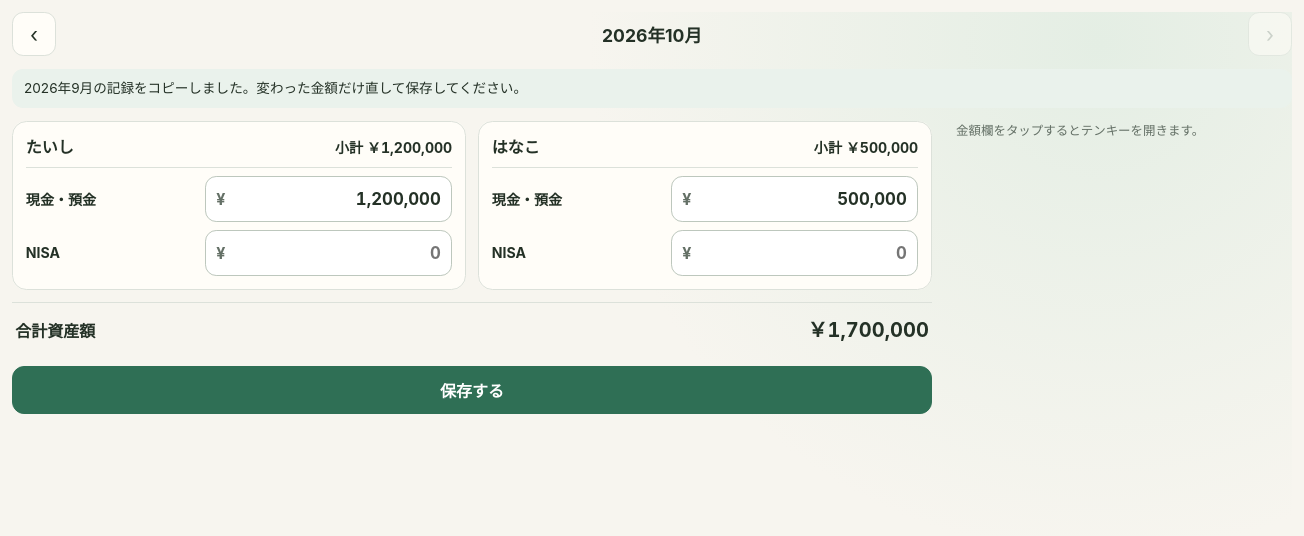
Test: AssetRecordScreen › テンキーは一覧に差し込まず下部のドックへ開き、入力中の欄名と閉じるを示す (AC-AST-002-5)
Step 1. Focus the field labelled "現金・預金" below "たいし" → (336,199), box [231,177,441,221]
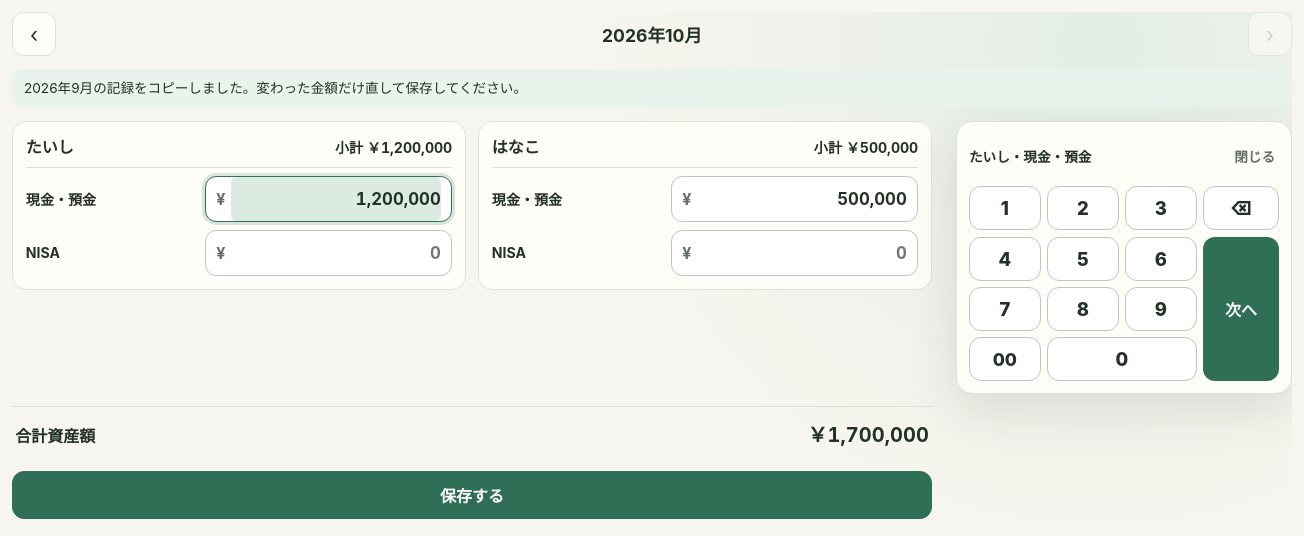
Check: the element named "金額の入力" shows "たいし・現金・預金", box [969,149,1091,165]
Step 2. Click the button with aria-label "テンキーを閉じる" → (1255,156), box [1230,134,1279,178]
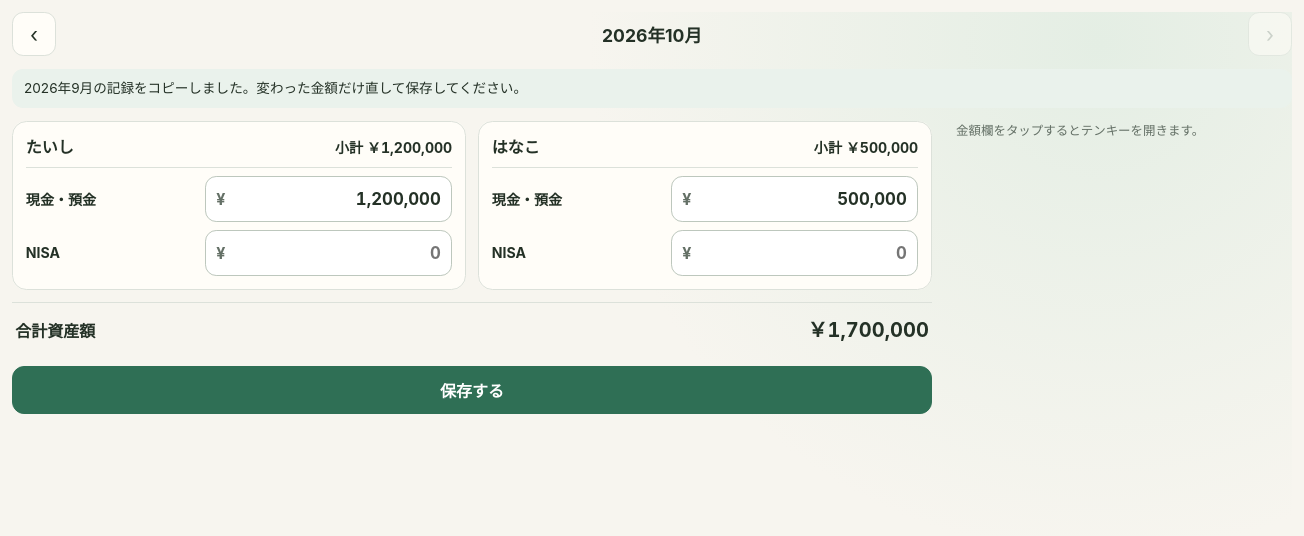
Check: the element "金額の入力" is gone
